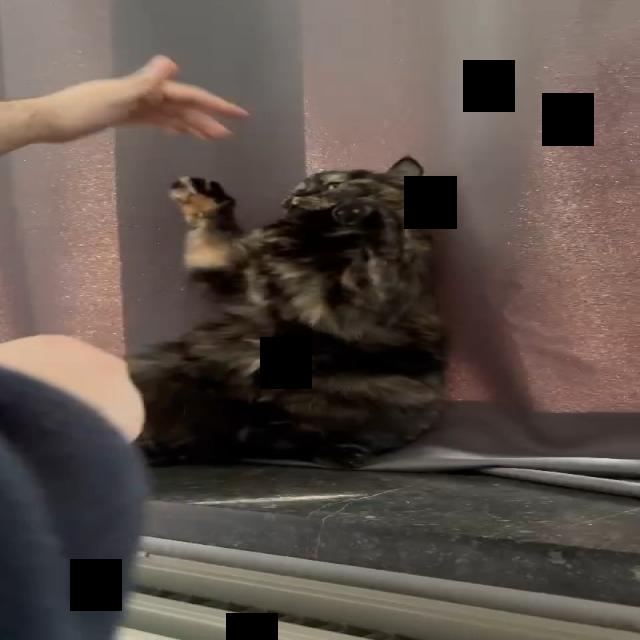authorized: (124, 154, 451, 469)
